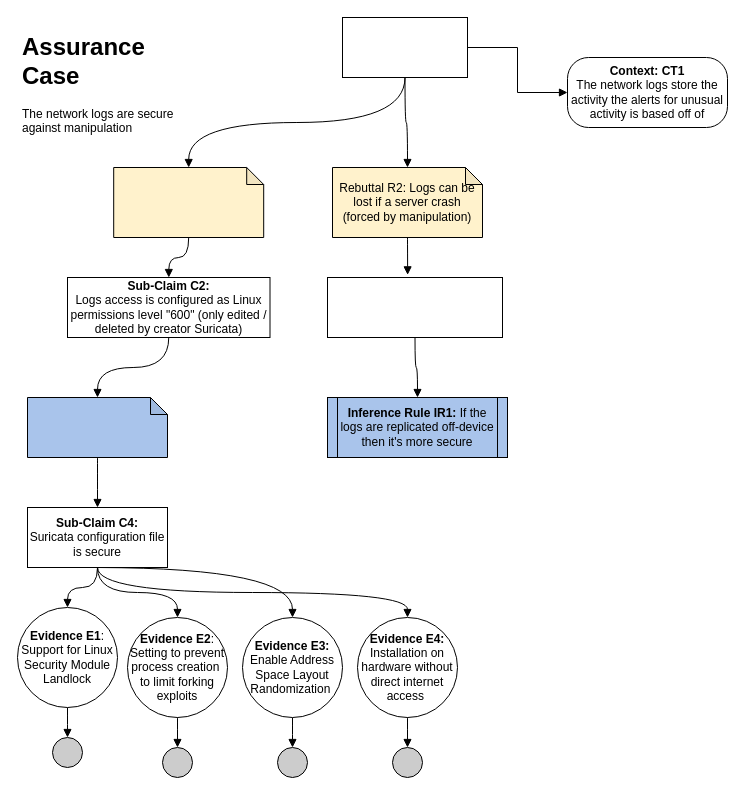
Image size: 745x795. Some labels were removed from this diagram. Each missing label, with the centre of its shape:
Rebuttal R1: Anyone with server access can manipulate the log file: (188,202)
Sub-Claim C3: Logs can configured with centralized (off-network) setup: (414,307)
Top-Claim C1: The network logs are secure against manipulation: (405,47)
Undermine UM1: Unless the permissions configs can be edited: (97,427)
